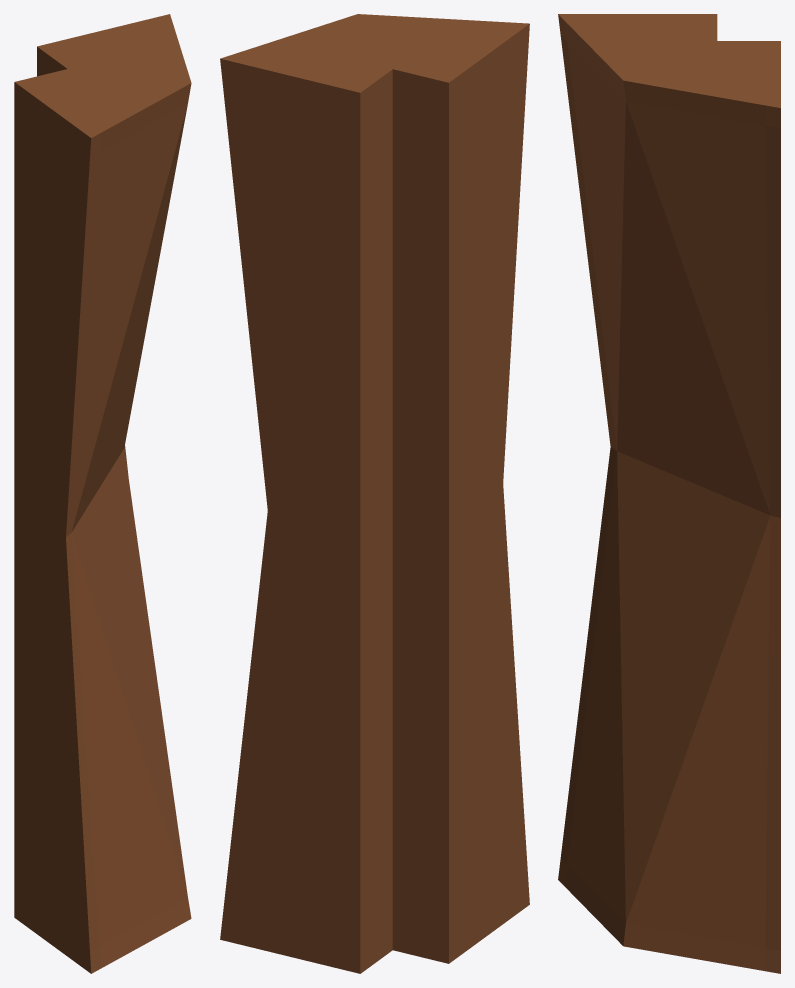
File: Corner_Wall.fbx
3 renders of one model, left to right at view 1: azimuth 30°, elevation 25°; view 2: azimuth 150°, elevation 25°; view 3: azimuth 270°, elevation 25°, orthographic. The views are drawn at different scales.
Parts seen in each view (by area): view 1: Cube.047; view 2: Cube.047; view 3: Cube.047.
Boxes of the visible parts, x1=… form: Cube.047: x1=14, y1=14, x2=191, y2=973; Cube.047: x1=220, y1=14, x2=529, y2=973; Cube.047: x1=558, y1=14, x2=780, y2=973.
Bounding box in the file's own units: 1.4 × 6 × 1.4.
